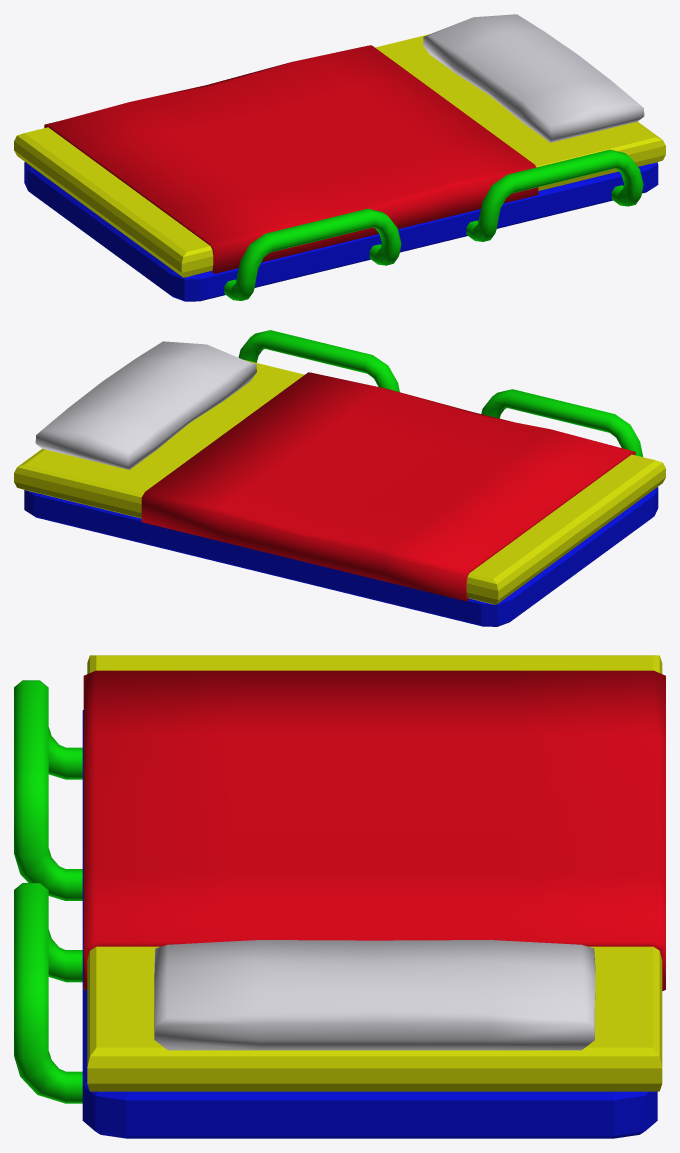
File: Bed.fbx
3 renders of one model, top to bottom at view 1: azimuth 30°, elevation 25°; view 2: azimuth 150°, elevation 25°; view 3: azimuth 270°, elevation 25°, orthographic. The views are drawn at different scales.
Parts seen in each view (by area): view 1: Cube.022; view 2: Cube.022; view 3: Cube.022.
Part boxes in pixels (x1=…): Cube.022: x1=14, y1=14, x2=665, y2=301; Cube.022: x1=14, y1=330, x2=665, y2=626; Cube.022: x1=14, y1=655, x2=665, y2=1138.
Size of the model in its own units: 200 by 31.61 by 136.
